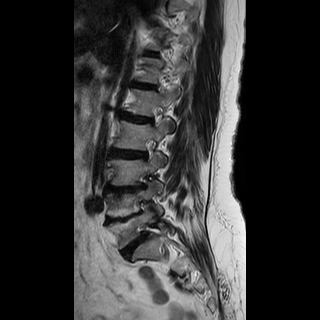RFS0: (138, 132, 161, 168)
